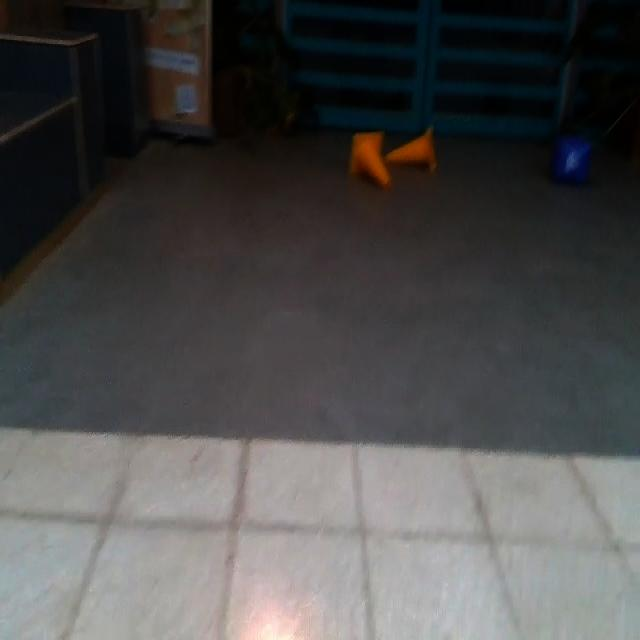cone: (346, 126, 396, 190), (384, 128, 444, 171)
cube: (554, 130, 592, 191)
